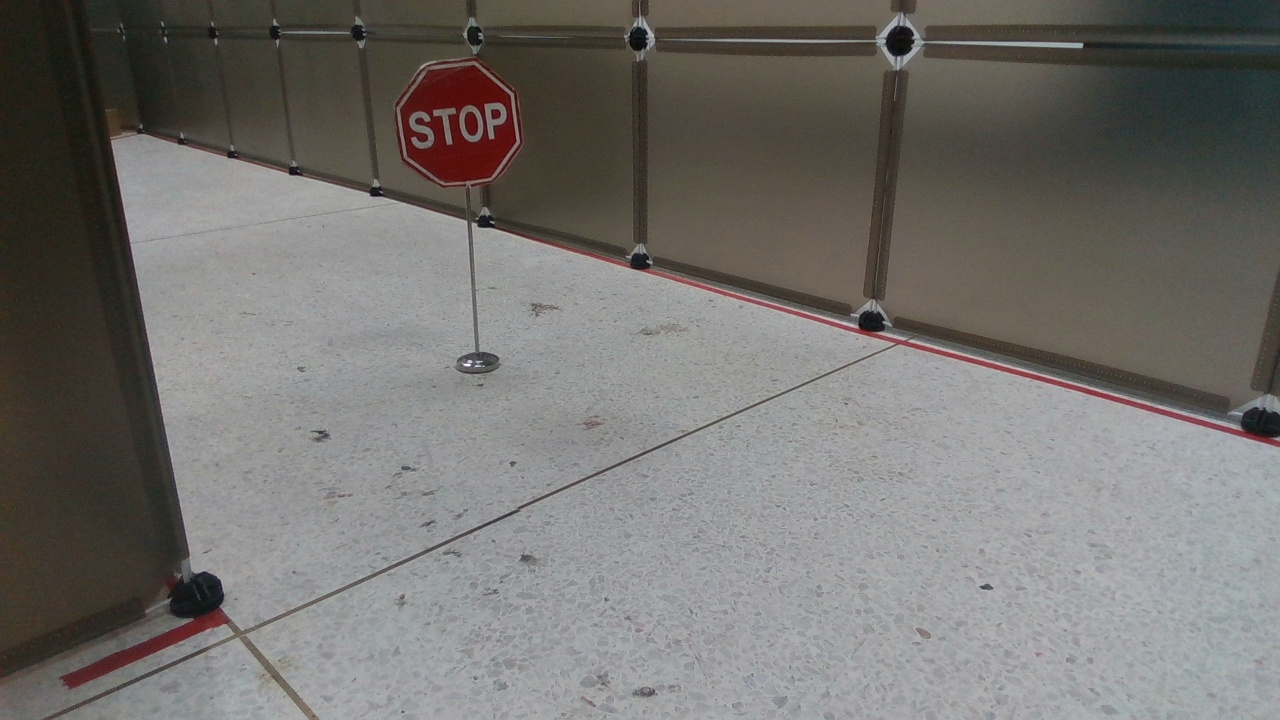Stop sign: (387, 60, 523, 189)
